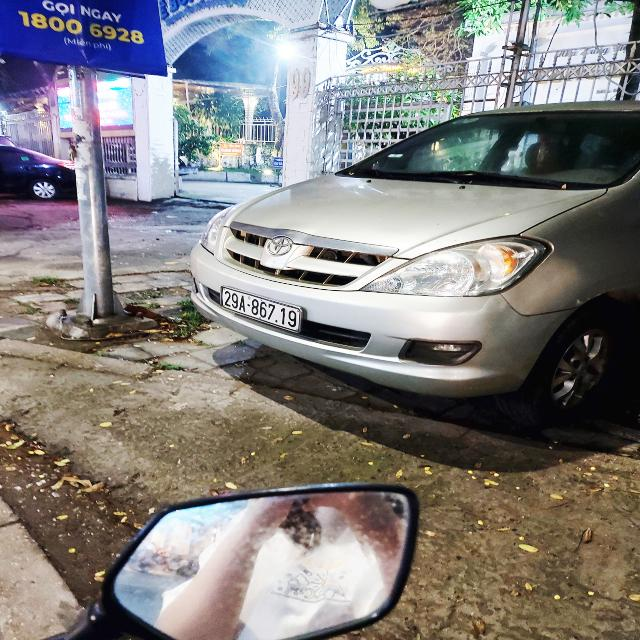license_plate: (220, 286, 304, 333)
